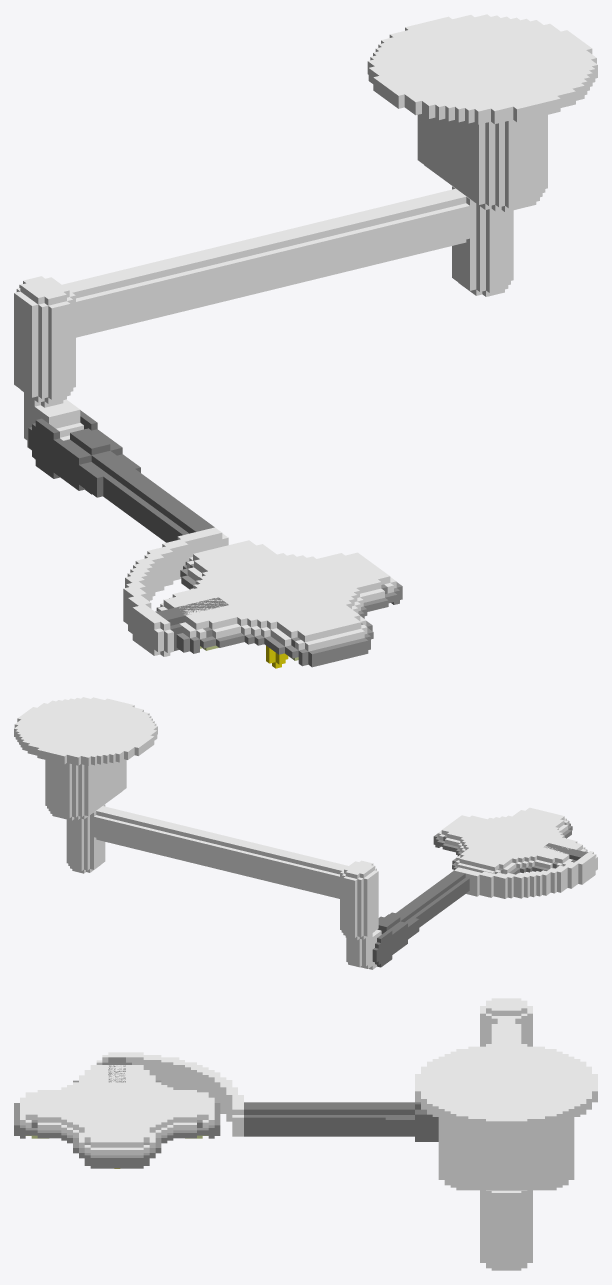
File: Operating room Light1.fbx
3 renders of one model, top to bottom at view 1: azimuth 30°, elevation 25°; view 2: azimuth 150°, elevation 25°; view 3: azimuth 270°, elevation 25°, orthographic. The views are drawn at different scales.
Visible parts, largest first — view 1: Operating room Light1.022, Operating room Light1.001, Operating room Light1.025, Operating room Light1.026, Operating room Light1.015, Operating room Light1.000, Operating room Light1.012, Operating room Light1.055, Operating room Light1.005, Operating room Light1.014, Operating room Light1.003; view 2: Operating room Light1.022, Operating room Light1.025, Operating room Light1.001, Operating room Light1.026, Operating room Light1.000, Operating room Light1.015, Operating room Light1.055, Operating room Light1.005, Operating room Light1.012, Operating room Light1.014; view 3: Operating room Light1.001, Operating room Light1.025, Operating room Light1.026, Operating room Light1.005, Operating room Light1.055, Operating room Light1.000, Operating room Light1.012, Operating room Light1.015, Operating room Light1.022, Operating room Light1.003.
Boxes of the visible parts, x1,y1,x2,y2 form: Operating room Light1.022: (62,188,469,337); Operating room Light1.001: (155,540,402,668); Operating room Light1.025: (367,14,597,124); Operating room Light1.026: (417,114,547,212); Operating room Light1.015: (14,276,75,403); Operating room Light1.000: (123,527,228,656); Operating room Light1.012: (28,410,140,500); Operating room Light1.055: (452,186,513,296); Operating room Light1.005: (103,464,214,542); Operating room Light1.014: (24,392,83,459); Operating room Light1.003: (156,597,228,650); Operating room Light1.022: (94,806,348,898); Operating room Light1.025: (14,697,157,765); Operating room Light1.001: (433,807,588,874); Operating room Light1.026: (45,759,126,820); Operating room Light1.000: (454,851,597,898); Operating room Light1.015: (340,860,378,940); Operating room Light1.055: (66,804,105,873); Operating room Light1.005: (400,870,469,927); Operating room Light1.012: (372,910,419,967); Operating room Light1.014: (346,929,381,969); Operating room Light1.001: (14,1065,220,1168); Operating room Light1.025: (415,1044,597,1131); Operating room Light1.026: (438,1119,574,1190); Operating room Light1.005: (244,1102,385,1136); Operating room Light1.055: (480,1190,532,1270); Operating room Light1.000: (96,1052,243,1136); Operating room Light1.012: (385,1102,438,1141); Operating room Light1.015: (480,998,532,1046); Operating room Light1.022: (491,1018,521,1043); Operating room Light1.003: (102,1057,131,1082).
Size of the model in its own units: 10.7 by 4.9 by 9.9.
